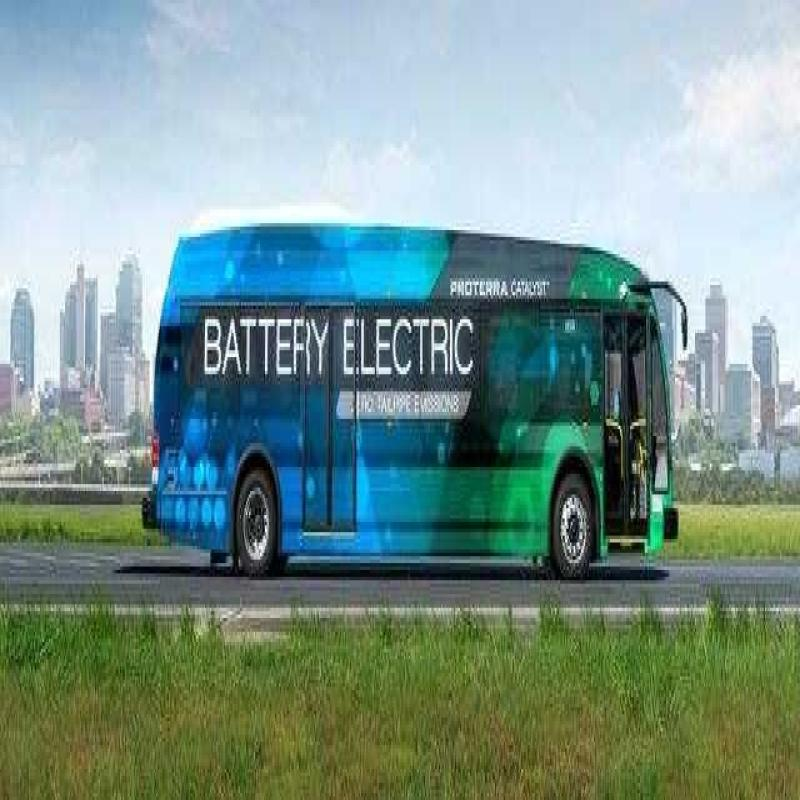bus: (156, 192, 692, 596)
